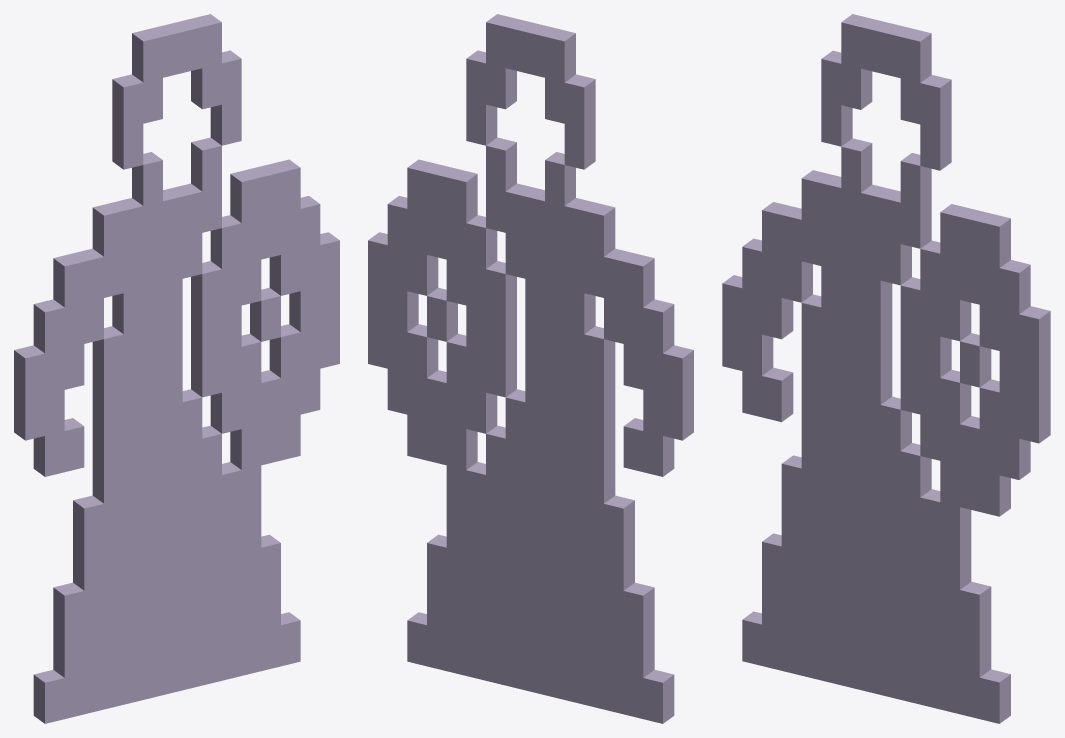
File: Wraith-Shield-Grey.vox.obj
The picture shows the model from 3 angles, left to right: view 1: azimuth 30°, elevation 25°; view 2: azimuth 150°, elevation 25°; view 3: azimuth 330°, elevation 25°; orthographic projection.
Size of the model in its own units: 1.6 by 3.2 by 0.1.
1 material, 1 textured.
